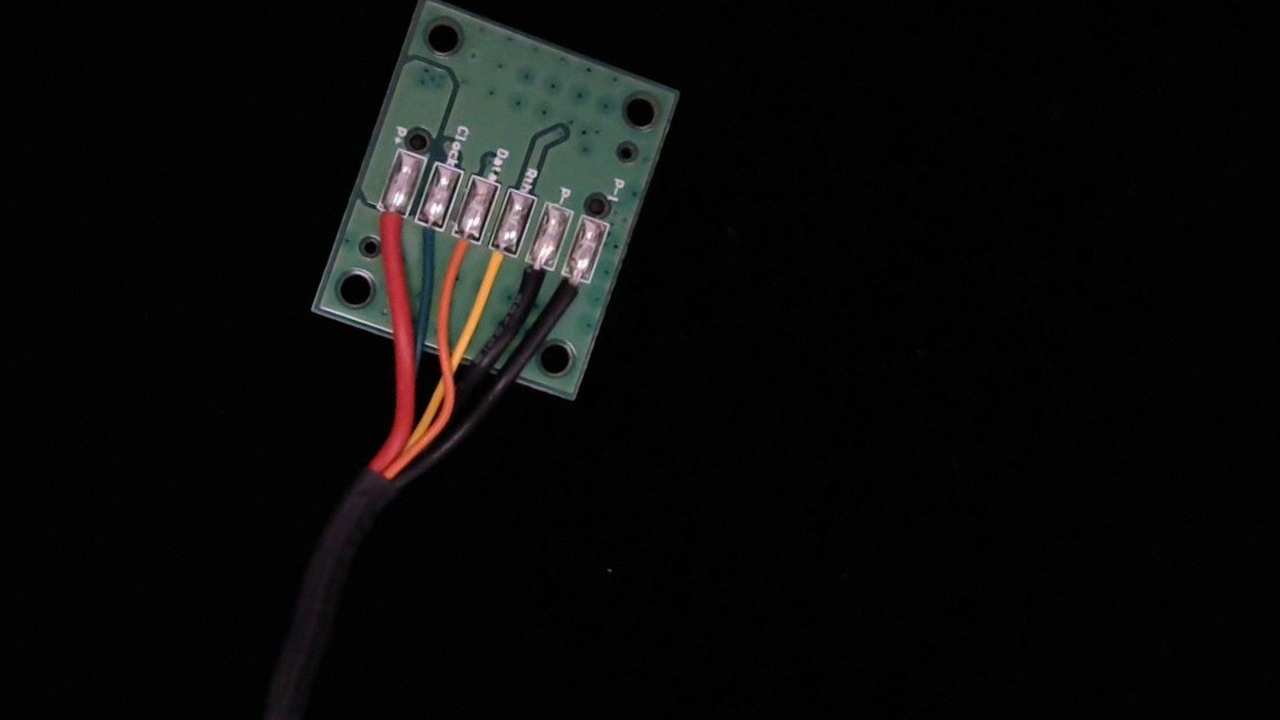Black: (510, 243, 559, 314)
Black1: (542, 254, 597, 331)
Green: (402, 205, 453, 270)
Orange: (437, 218, 482, 285)
Red: (365, 194, 413, 257)
Yellow: (474, 230, 523, 300)
